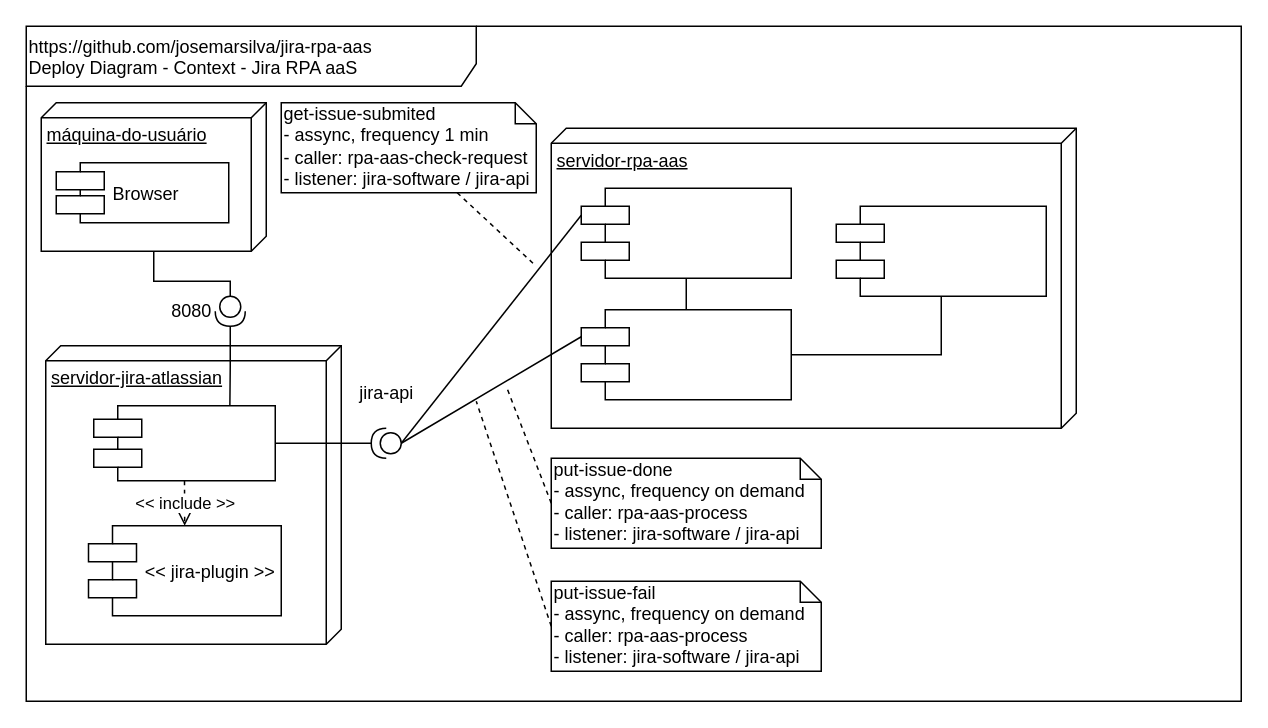
Image size: 1268x728. Some labels were removed from this diagram. The shapes that lost their labels are listed below. From the top down, each one's centre as x and y in pixels, then its label:
(685,232): rpa-aas-get
(940,250): servico
(685,354): rpa-aas-process
(183,442): jira-software
